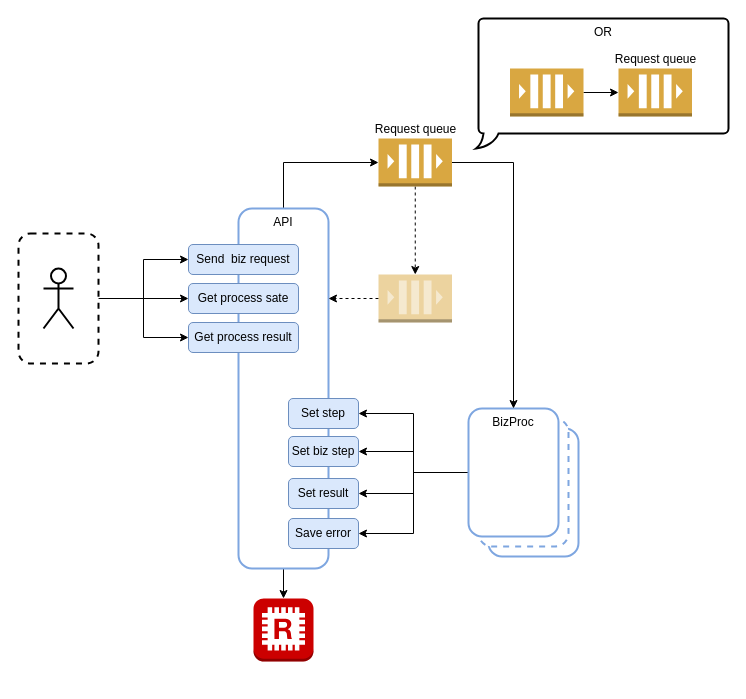
Image size: 746x699. Some labels were removed from this diagram. Here are the shapes that lost their labels. From the top down, the centre of each, then its label:
At (546,92): "Exchange".
At (58,298): "Client".
At (414,298): "Dead letter (optional)".
At (283,629): "Redis".
